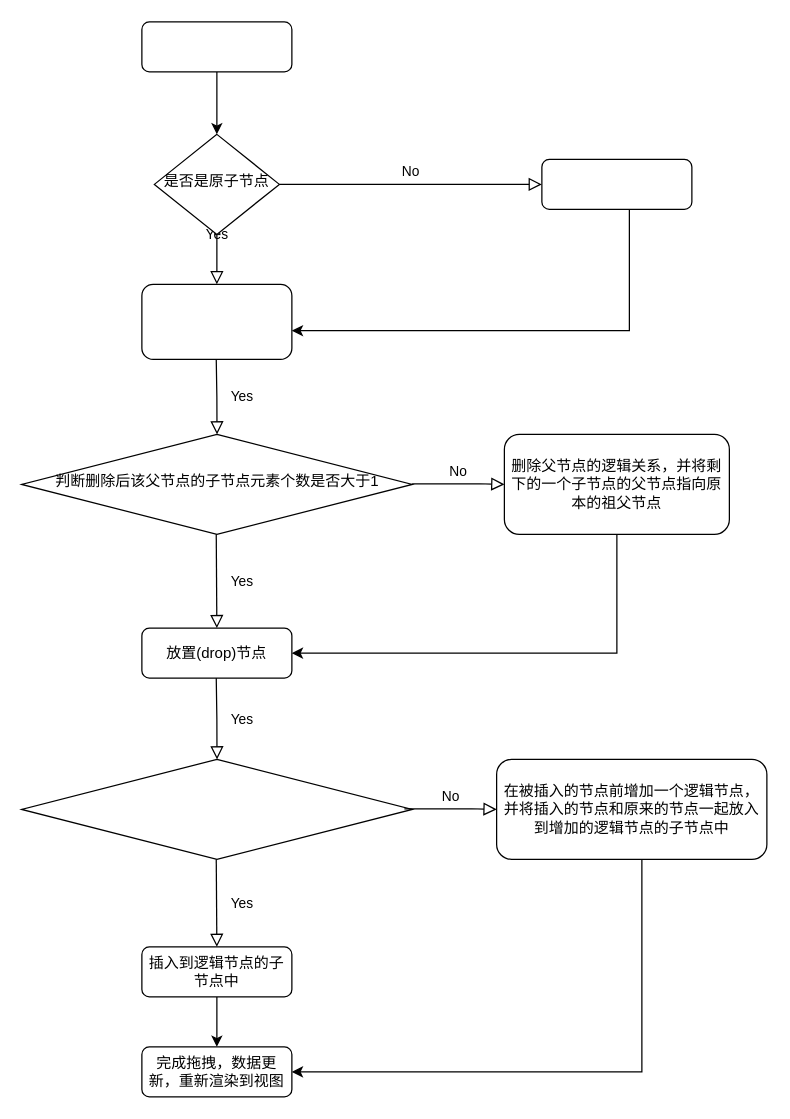
Some shapes in this 790 by 1119 pixel diagram are drawn without their labels. The centre of each missing label's shape, as x and y in pixels:
判断被插入的节点是否是逻辑节点: [216,808]
在整个树形结构中预删除掉该子节点: [216,321]
将子节点树整体当做一个原子节点: [616,183]
拖动(drag)节点: [216,46]
